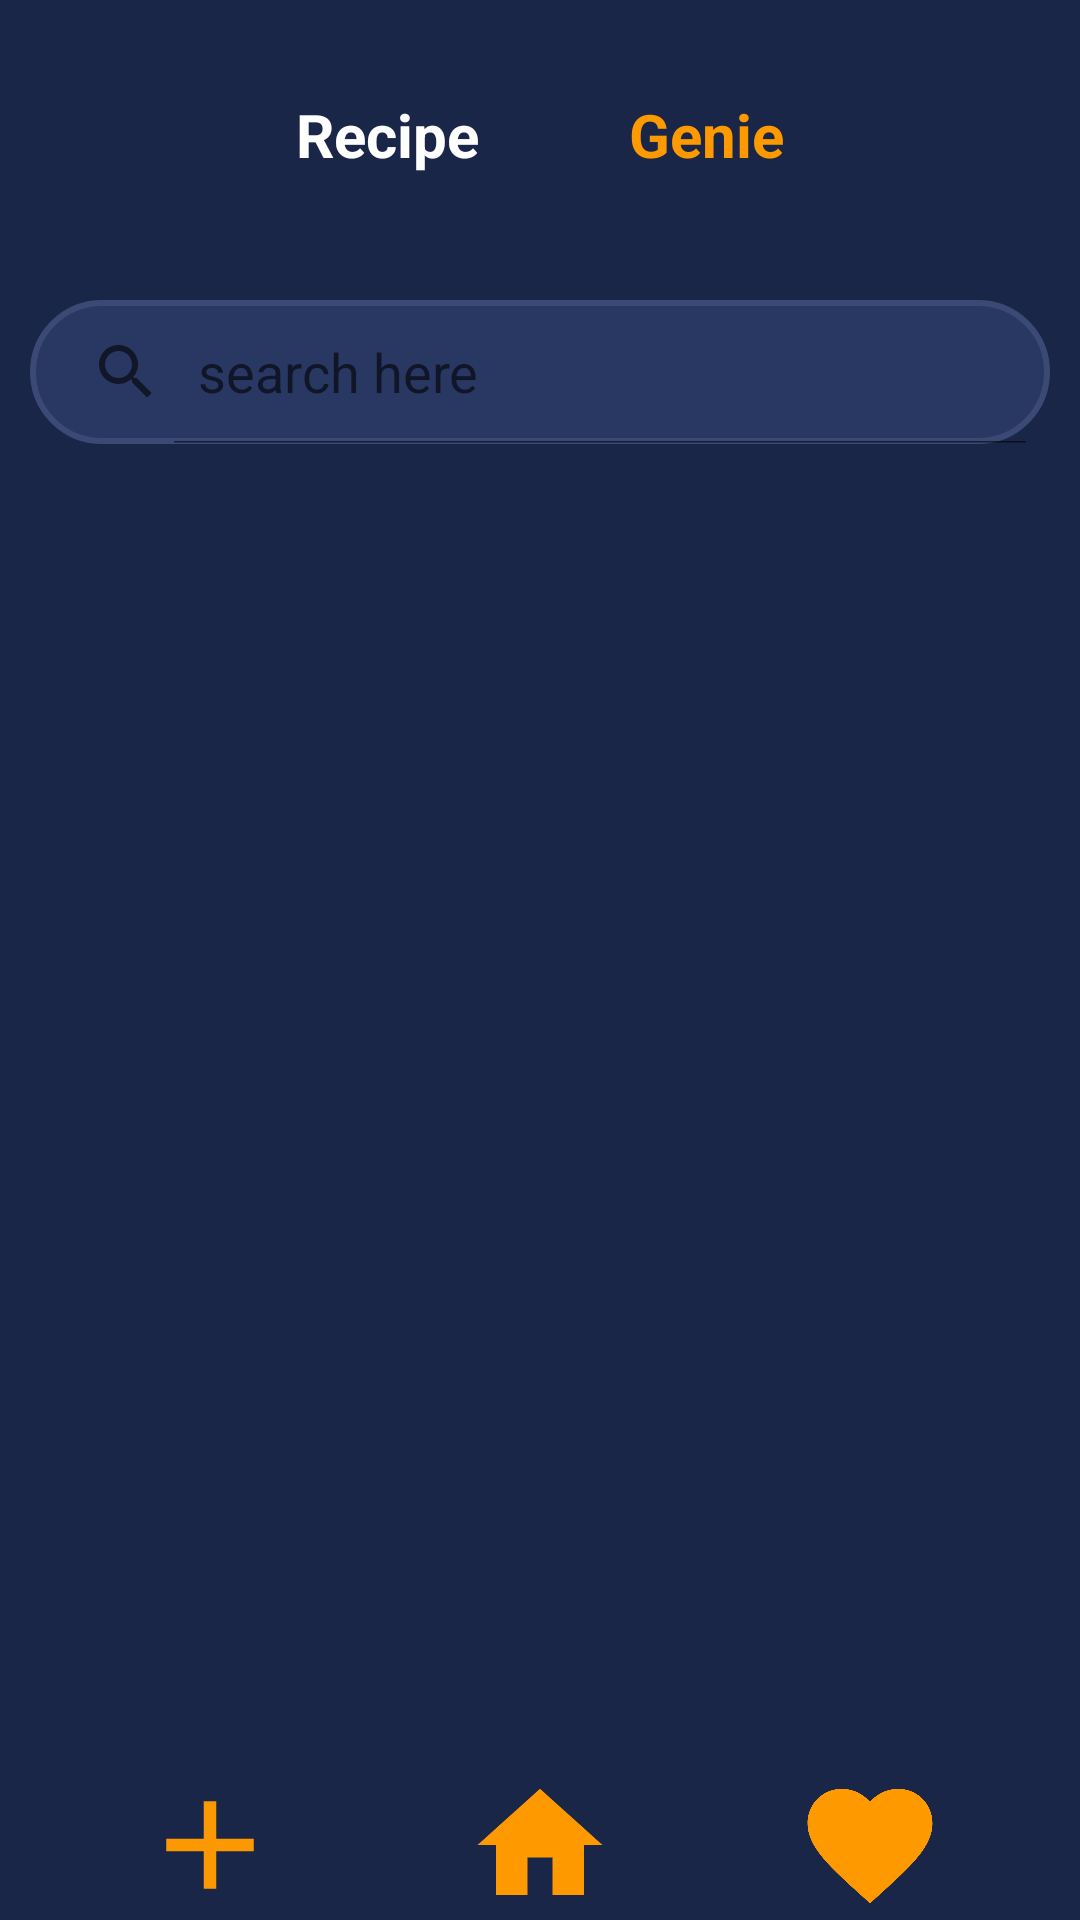

Icons on this 1080x1920 Android screen, each with its box as box=[x1, y1, x2, y2]:
add: box=[166, 1801, 254, 1889]
favorite: box=[807, 1789, 933, 1903]
home: box=[478, 1789, 602, 1895]
